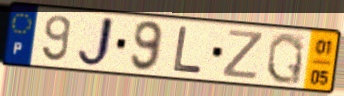9: (129, 19, 165, 73), (41, 14, 73, 63)
J: (74, 14, 117, 70)
L: (171, 24, 205, 75)
Q: (264, 31, 306, 87)
Z: (220, 27, 267, 82)
